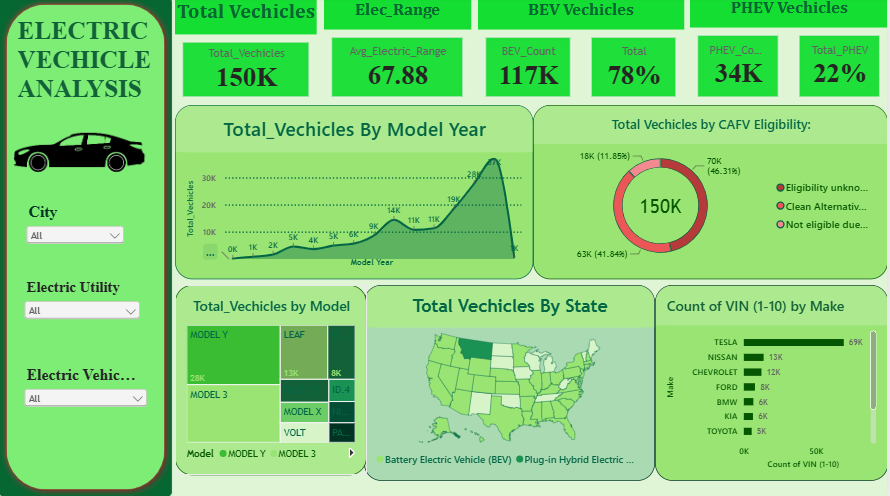

This screenshot's page, from the dashboard's own definition file:
{"tool":"powerbi","page":{"name":"EVA","canvas":[1280,720],"ordinal":0},"visuals":[{"type":"cardVisual","title":"Total  Vechicles","fields":{"Data":["Electric_Vehicle_Population_Data.Total_Vechicles"]},"box":[248.6,95.7,204.9,142.8],"z":0},{"type":"cardVisual","title":"Elec_Range","fields":{"Data":["Data - Orders csv - CHARTS (1).Avg_Electric_Range"]},"box":[465.3,95.7,211.7,142.8],"z":1000},{"type":"shape","box":[0,0,248.6,720.6],"z":2000},{"type":"shape","box":[247.7,2.9,747.4,95],"z":3000},{"type":"cardVisual","title":"BEV Vechicles","fields":{"Data":["Data - Orders csv - CHARTS (1).BEV_Count","Data - Orders csv - CHARTS (1).Total"]},"box":[688.3,95,296.6,144],"z":4000},{"type":"cardVisual","title":"PHEV Vechicles","fields":{"Data":["Data - Orders csv - CHARTS (1).PHEV_Count","Electric_Vehicle_Population_Data.Total_PHEV"]},"box":[994.4,95.7,285.6,142.8],"z":5000},{"type":"lineChart","title":"Total_Vechicles By Model Year","fields":{"Y":["Electric_Vehicle_Population_Data.Total_Vechicles"],"Category":["Electric_Vehicle_Population_Data.Model Year"]},"box":[248.6,238.5,440.1,230.1],"z":6000},{"type":"shapeMap","title":"Total Vechicles By State","fields":{"Series":["Electric_Vehicle_Population_Data.Electric Vehicle Type"],"Category":["Electric_Vehicle_Population_Data.State"]},"box":[248.6,468.7,566.1,252],"z":7000},{"type":"treemap","fields":{"Group":["Electric_Vehicle_Population_Data.Model"],"Values":["Electric_Vehicle_Population_Data.Total_Vechicles"]},"box":[688.7,233.5,258.7,235.2],"z":8000},{"type":"barChart","fields":{"Category":["Electric_Vehicle_Population_Data.Make"],"Y":["CountNonNull(Electric_Vehicle_Population_Data.VIN (1-10))"]},"box":[814.7,468.7,465.3,252],"z":9000},{"type":"donutChart","title":"Total Vechicles by CAFV Eligibility:","fields":{"Category":["Electric_Vehicle_Population_Data.Clean Alternative Fuel Vehicle (CAFV) Eligibility"],"Y":["CountNonNull(Electric_Vehicle_Population_Data.VIN (1-10))"]},"box":[947.4,233.5,332.6,235.2],"z":10000},{"type":"listSlicer","fields":{"Values":["Electric_Vehicle_Population_Data.City"]},"box":[33.1,31.7,168.5,275],"z":11000},{"type":"listSlicer","fields":{"Values":["Electric_Vehicle_Population_Data.Electric Vehicle Type"]},"box":[33.1,508.3,168.5,172.8],"z":12000},{"type":"listSlicer","fields":{"Values":["Electric_Vehicle_Population_Data.Electric Utility"]},"box":[33.1,326.9,168.5,142.6],"z":13000},{"type":"textbox","box":[259.2,50.4,194.4,67.7],"z":13002}]}

Visuals, with their boxes in screenshot pixels (x1, y1, x2, y2), scaled from the page's 1280x720 canvas onto the 890x496 screenshot:
"Total  Vechicles" cardVisual: l=173, t=66, r=315, b=164
"Elec_Range" cardVisual: l=324, t=66, r=471, b=164
shape: l=0, t=0, r=173, b=495
shape: l=172, t=2, r=692, b=67
"BEV Vechicles" cardVisual: l=479, t=65, r=685, b=165
"PHEV Vechicles" cardVisual: l=691, t=66, r=889, b=164
"Total_Vechicles By Model Year" lineChart: l=173, t=164, r=479, b=323
"Total Vechicles By State" shapeMap: l=173, t=323, r=566, b=495
treemap - Electric_Vehicle_Population_Data.Model x Electric_Vehicle_Population_Data.Total_Vechicles: l=479, t=161, r=659, b=323
barChart - Electric_Vehicle_Population_Data.Make x CountNonNull(Electric_Vehicle_Population_Data.VIN (1-10)): l=566, t=323, r=889, b=495
"Total Vechicles by CAFV Eligibility:" donutChart: l=659, t=161, r=889, b=323
listSlicer - Electric_Vehicle_Population_Data.City: l=23, t=22, r=140, b=211
listSlicer - Electric_Vehicle_Population_Data.Electric Vehicle Type: l=23, t=350, r=140, b=469
listSlicer - Electric_Vehicle_Population_Data.Electric Utility: l=23, t=225, r=140, b=323
textbox: l=180, t=35, r=315, b=81
